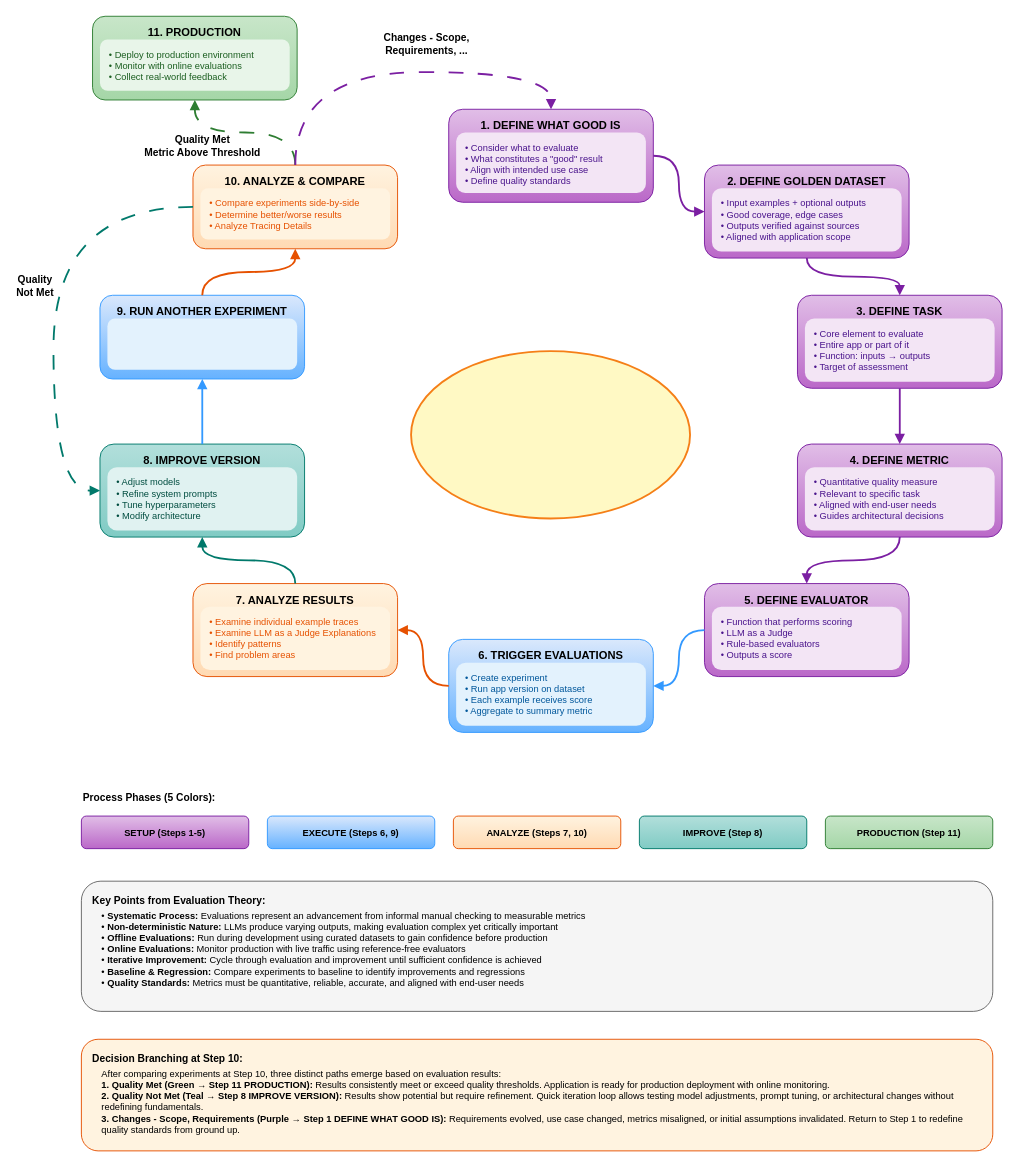
Some shapes in this 1018 by 1167 pixel diagram are drawn without their labels. Each missing label, with the centre of its shape:
"CONTINUOUS IMPROVEMENT LOOP" belongs at point (550, 434).
"• Test improved version • Use same dataset • Same evaluation setup" belongs at point (202, 343).
